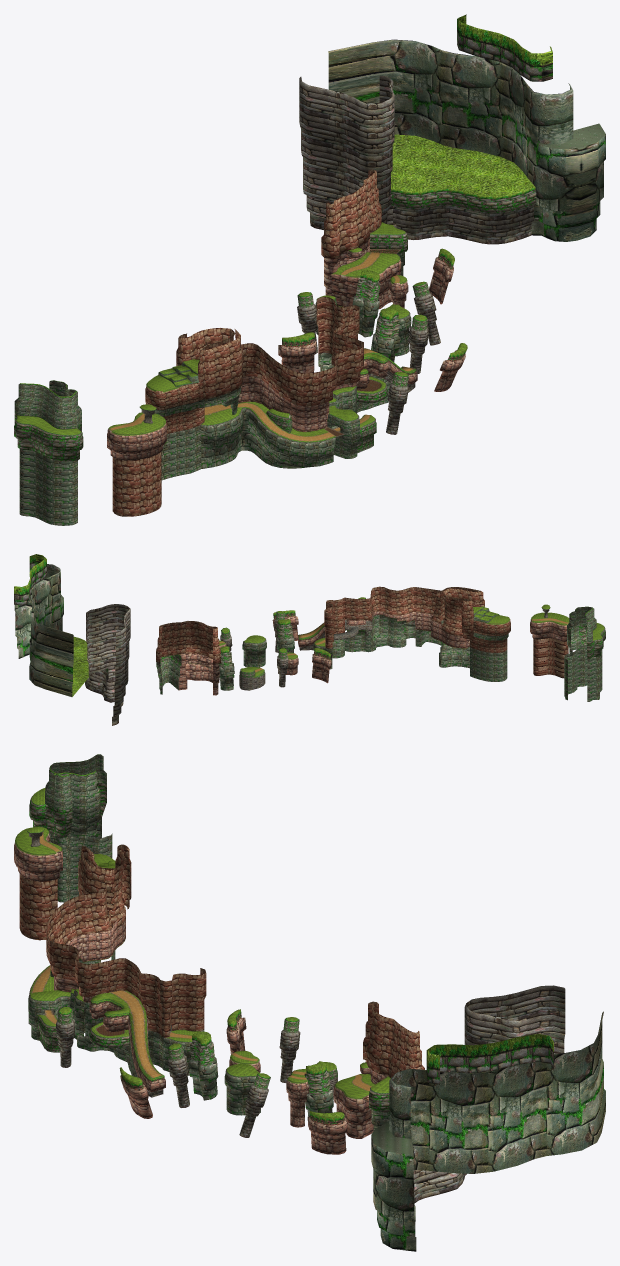
The picture shows the model from 3 angles, top to bottom: view 1: azimuth 30°, elevation 25°; view 2: azimuth 150°, elevation 25°; view 3: azimuth 270°, elevation 25°; orthographic projection. The views are drawn at different scales.
Visible parts, largest first — view 1: object_007EC7BC, object_007E9384 (×4), object_007E5960, object_007D64BC, object_007ED8D8, object_007DF3FC, object_007F24AC, object_007E2E2C (×2), object_007D5A24, object_007DBB34, object_007D7178, object_0079DF64 (+16 smaller); view 2: object_007EC7BC, object_007E5960, object_007F24AC (×2), object_007DF3FC, object_007E9384 (×2), object_007DDC94, object_007D7178, object_007D64BC (×2), object_007A7698 (×2), object_007E6BB8, object_007E2E2C (×2), object_007ED8D8 (+22 smaller); view 3: object_007EC7BC, object_007E5960, object_007ED8D8, object_007EEE7C, object_007DFE88 (×2), object_007DF3FC, object_007D7DF4, object_007D5A24, object_007F24AC, object_007E1EF0, object_007BF3C8, object_007A2A6C (+22 smaller).
Part boxes in pixels (x1,y1,x2,y2): object_007EC7BC: [328, 39, 605, 241]; object_007E9384 (×4): [390, 134, 536, 244]; object_007E5960: [299, 75, 396, 229]; object_007D64BC: [19, 449, 77, 525]; object_007ED8D8: [457, 14, 552, 81]; object_007DF3FC: [112, 452, 161, 516]; object_007F24AC: [321, 180, 370, 259]; object_007E2E2C (×2): [289, 367, 334, 431]; object_007D5A24: [14, 385, 81, 429]; object_007DBB34: [203, 329, 242, 398]; object_007D7178: [161, 425, 201, 480]; object_0079DF64: [14, 413, 83, 461]; object_007EC7BC: [14, 564, 73, 696]; object_007E5960: [86, 604, 130, 725]; object_007F24AC (×2): [178, 621, 220, 695]; object_007DF3FC: [533, 638, 568, 678]; object_007E9384 (×2): [72, 636, 108, 699]; object_007DDC94: [442, 593, 474, 638]; object_007D7178: [470, 647, 507, 681]; object_007D64BC (×2): [576, 644, 602, 701]; object_007A7698 (×2): [470, 617, 510, 652]; object_007E6BB8: [379, 586, 415, 615]; object_007E2E2C (×2): [414, 587, 441, 630]; object_007ED8D8: [14, 554, 46, 605]; object_007EC7BC: [371, 1011, 605, 1251]; object_007E5960: [464, 985, 565, 1054]; object_007ED8D8: [426, 1034, 553, 1084]; object_007EEE7C: [141, 968, 206, 1037]; object_007DFE88 (×2): [82, 887, 117, 961]; object_007DF3FC: [19, 874, 57, 940]; object_007D7DF4: [53, 773, 100, 838]; object_007D5A24: [45, 754, 106, 810]; object_007F24AC: [363, 1001, 393, 1075]; object_007E1EF0: [388, 1019, 424, 1077]; object_007BF3C8: [109, 990, 162, 1078]; object_007A2A6C: [14, 833, 62, 881].
Size of what is drawn, in the model's own units: 18845 by 12470 by 4511.
20 materials, 20 textured.
